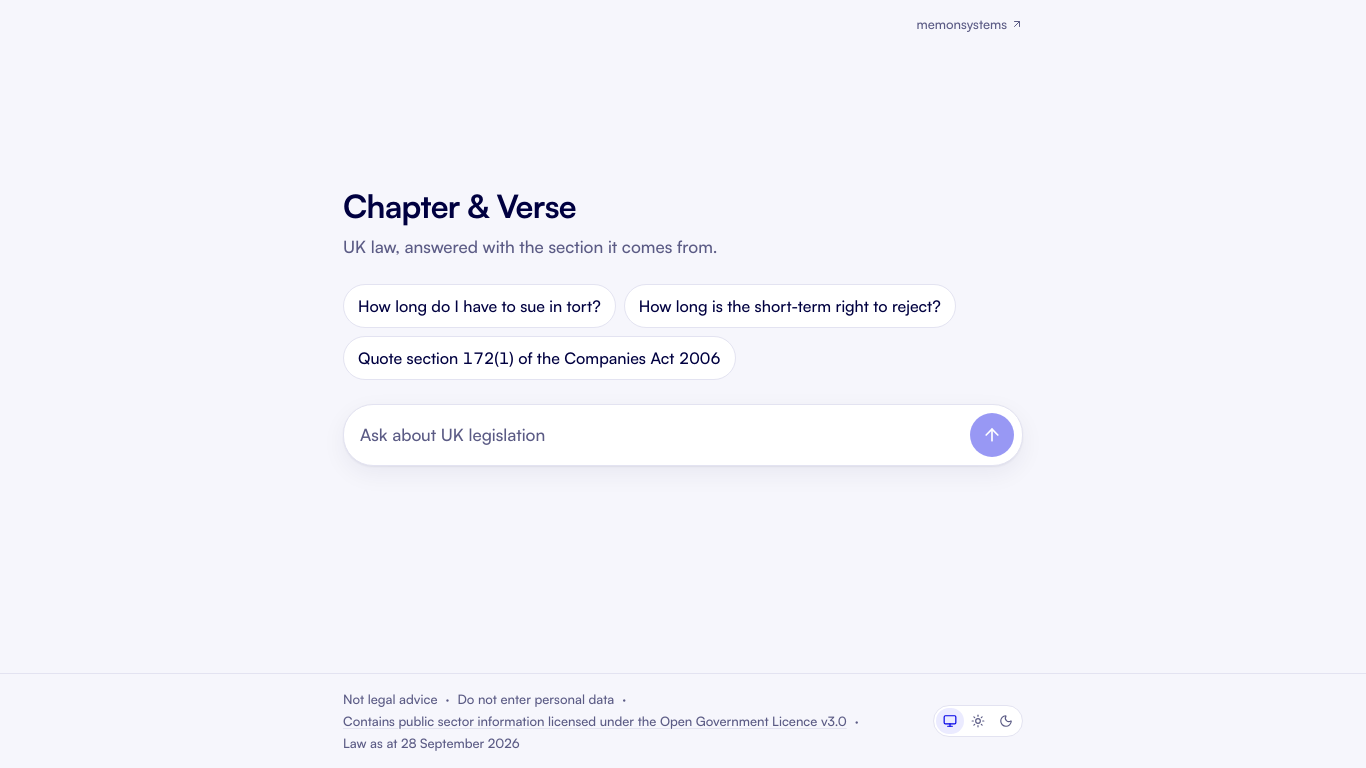
Scenario: App empty state and shell › fills and focuses the composer when an example is clicked without sending
What coordinates should you click on to do the following:
click the button "How long do I have to sue in tort?"
I would click on:
 (479, 306)
Its box is [343, 284, 616, 328].
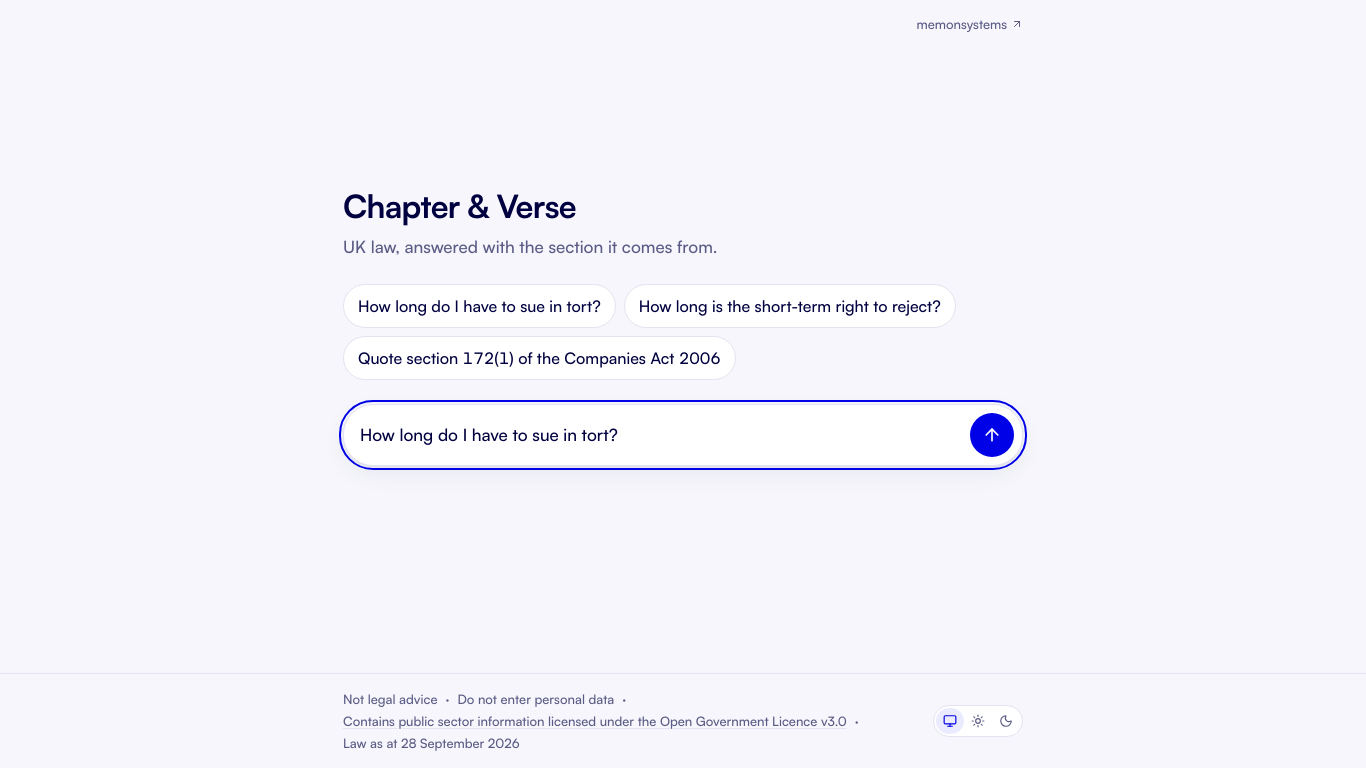
expect the list named "Example questions" is shown: met, box [343, 284, 1023, 380]
expect the text box with placeholder "Ask about UK legislation" holds "How long do I have to sue in tort?": met, box [360, 413, 962, 457]
